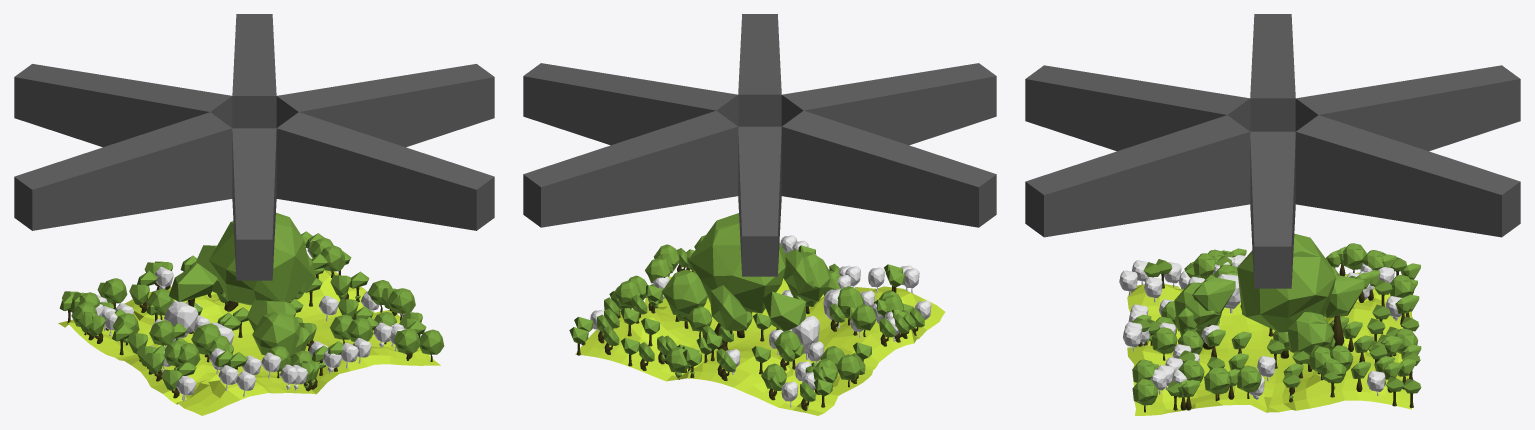
The model's file is map forêt 3.fbx.
3 views of the same model, side by side, from view 1: azimuth 30°, elevation 25°; view 2: azimuth 150°, elevation 25°; view 3: azimuth 270°, elevation 25° (orthographic). The views are drawn at different scales.
Parts seen in each view (by area): view 1: plateau node rendu 3; view 2: plateau node rendu 3; view 3: plateau node rendu 3.
Boxes of the visible parts, bbox=[...] form: plateau node rendu 3: bbox=[14, 14, 494, 415]; plateau node rendu 3: bbox=[523, 14, 996, 415]; plateau node rendu 3: bbox=[1025, 14, 1520, 415].
Size of the model in its own units: 38646 by 18660 by 34779.
